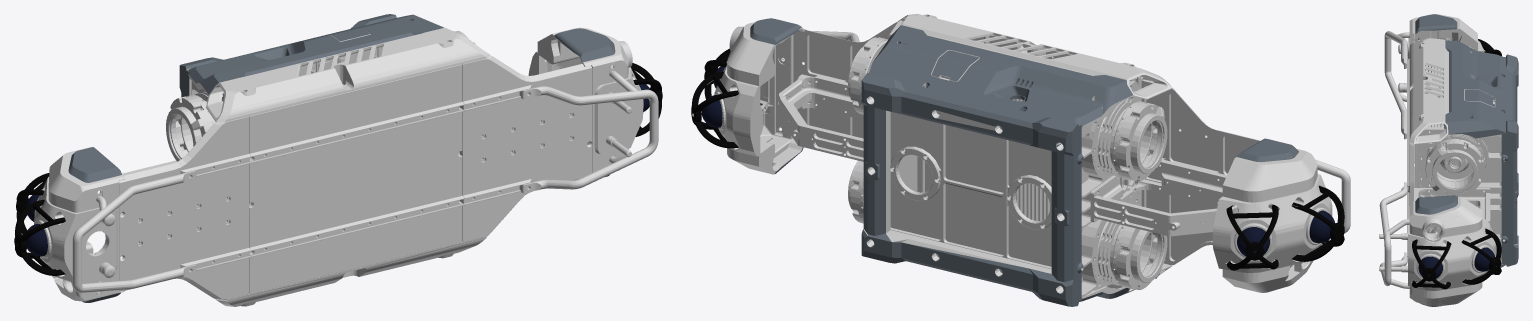
File: torso.obj
The picture shows the model from 3 angles, left to right: view 1: azimuth 30°, elevation 25°; view 2: azimuth 150°, elevation 25°; view 3: azimuth 270°, elevation 25°; orthographic projection. The views are drawn at different scales.
Visible parts, largest first — view 1: torso; view 2: torso; view 3: torso.
Boxes of the visible parts, x1,y1,x2,y2 form: torso: (14,14,662,306); torso: (691,14,1350,306); torso: (1379,14,1518,306).
Size of the model in its own units: 0.9799 by 0.315 by 0.2489.
